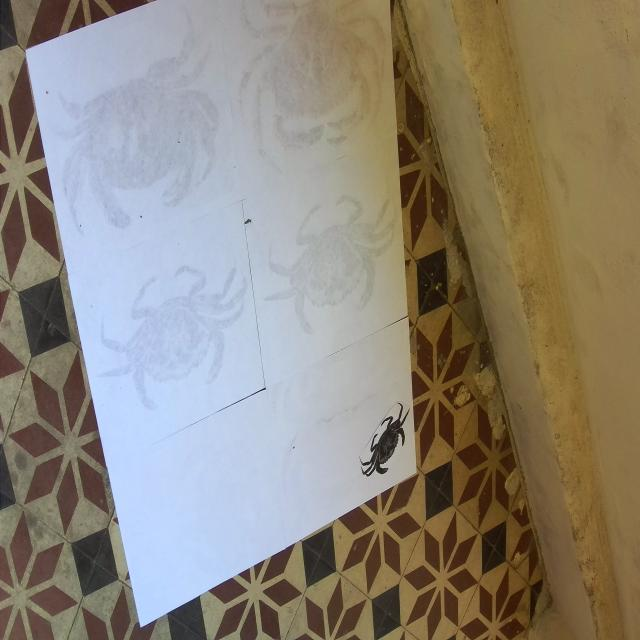European_Green_Crab: (356, 392, 418, 495)
